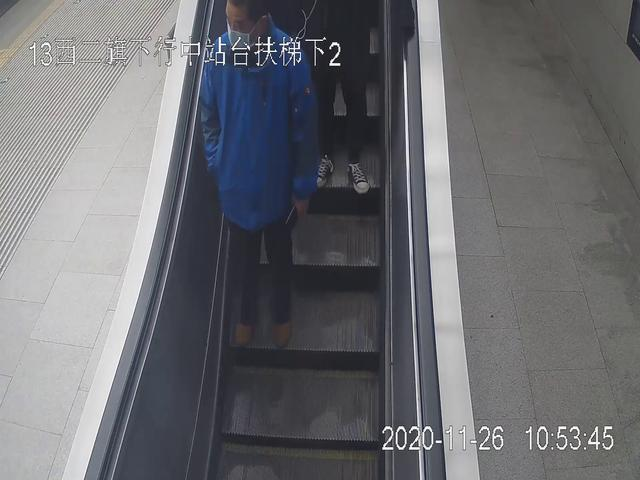person: (201, 1, 313, 352)
